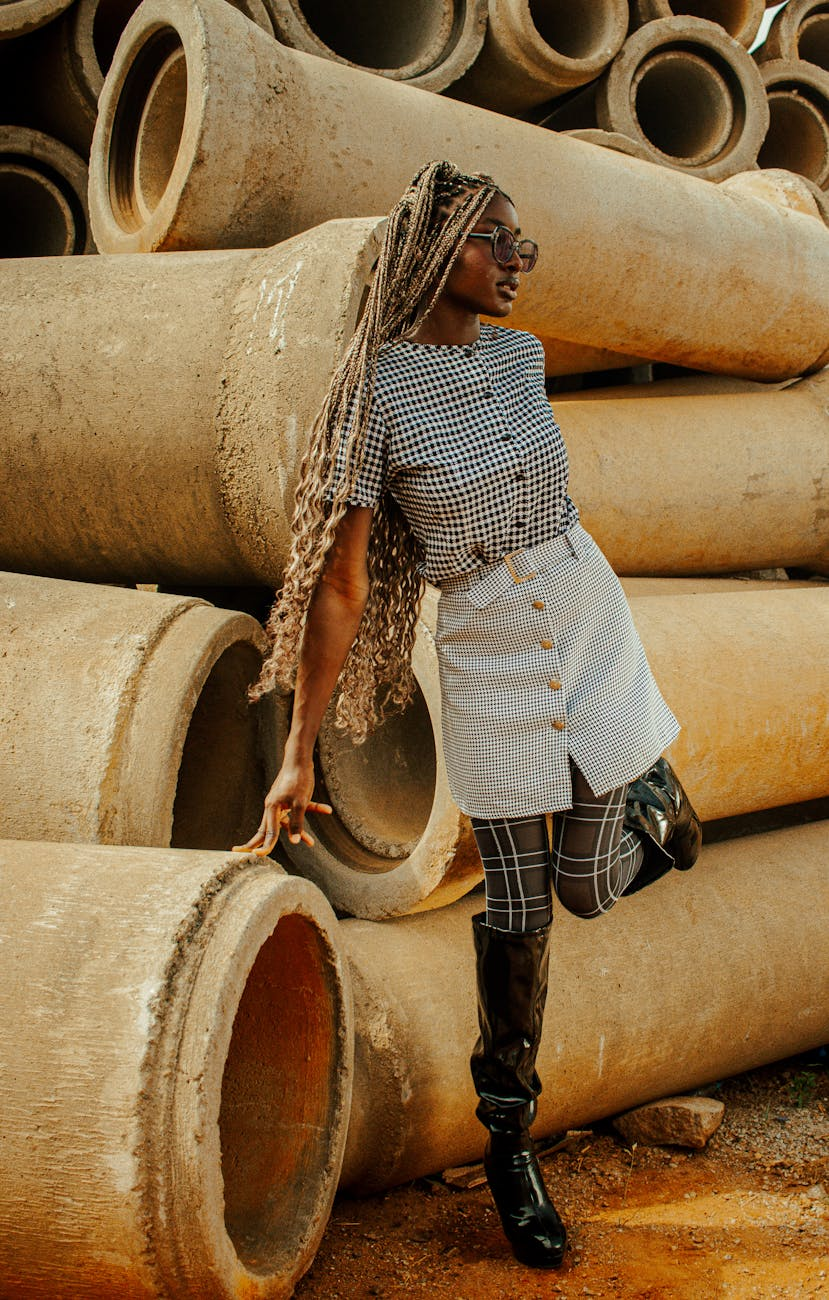short_medium_skirt: (398, 524, 688, 813)
